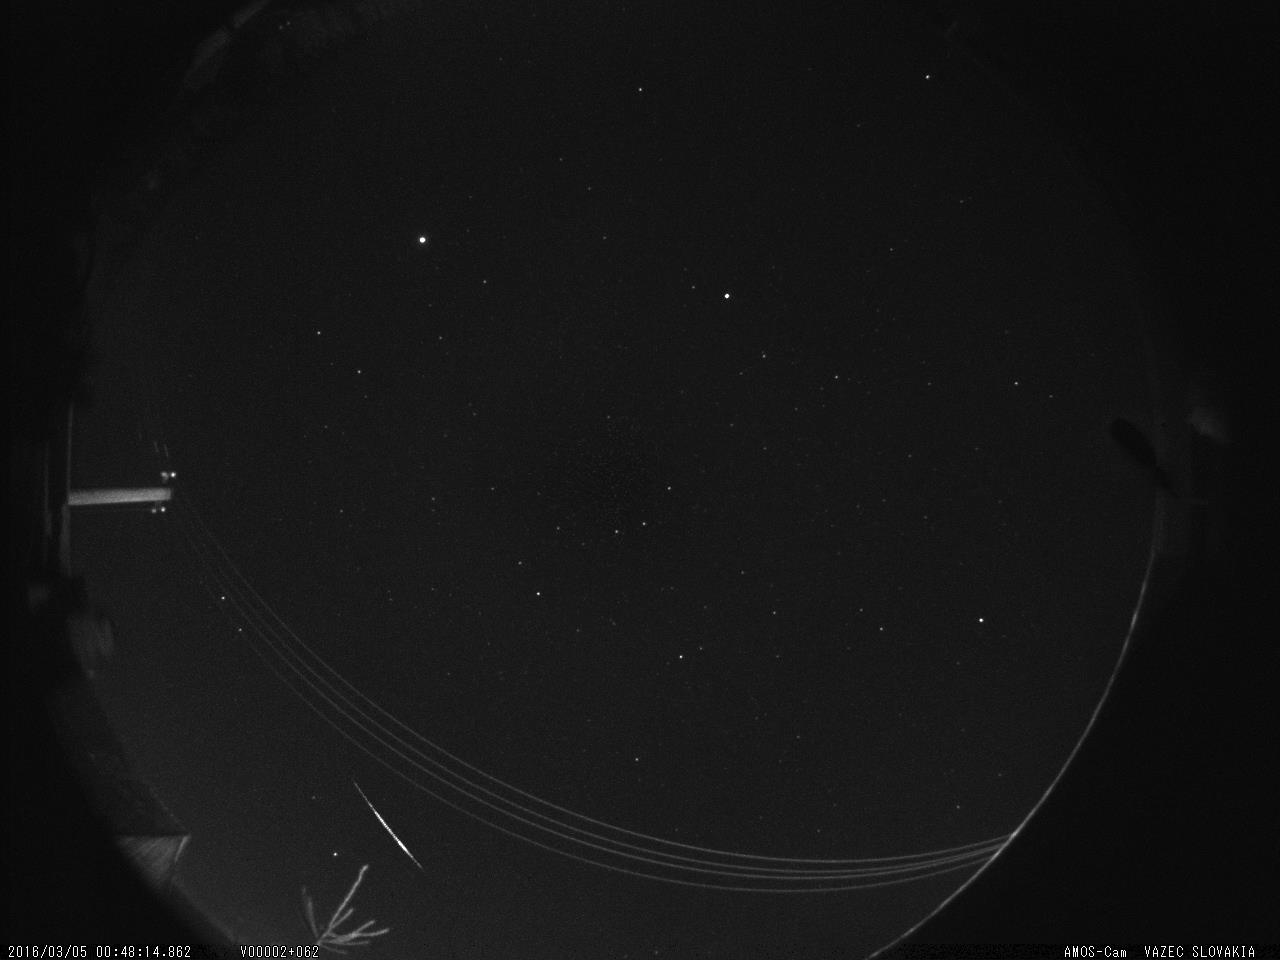meteor: (343, 778, 439, 877)
